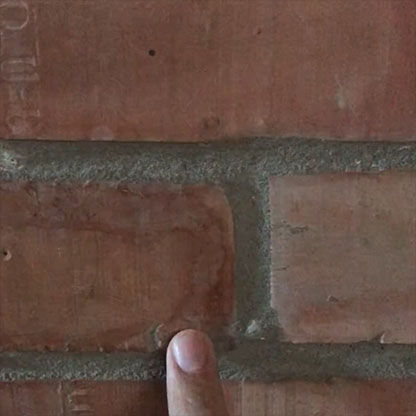fingertip: (157, 325, 224, 388)
